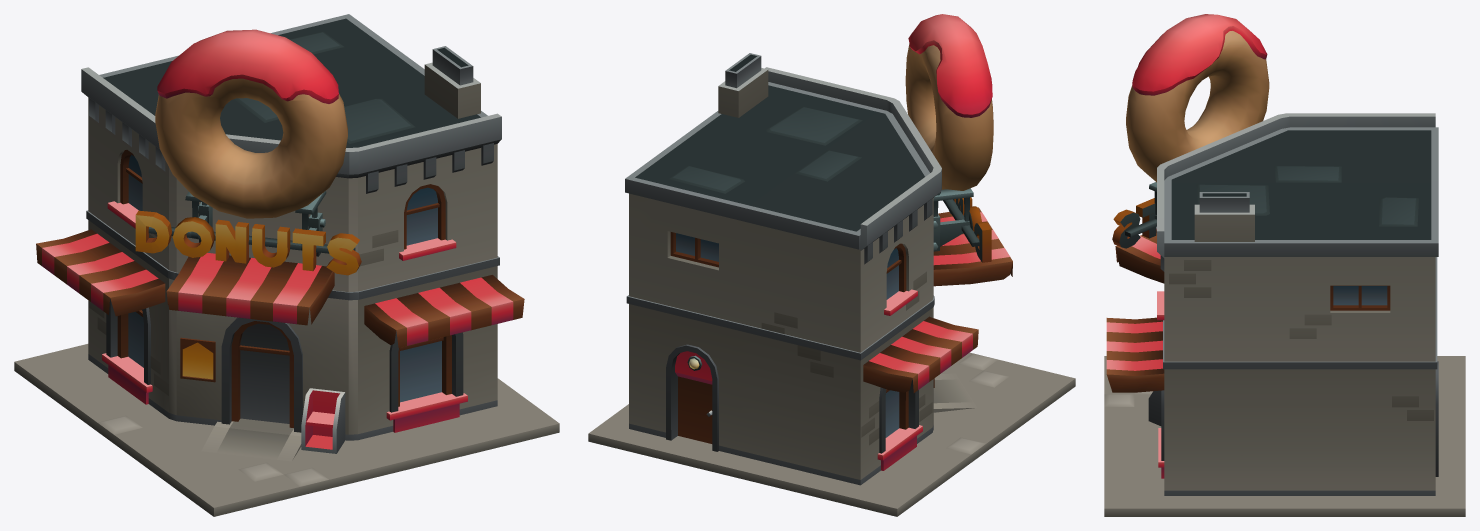
Rendered from Building_9C.fbx.
The picture shows the model from 3 angles, left to right: view 1: azimuth 30°, elevation 25°; view 2: azimuth 150°, elevation 25°; view 3: azimuth 270°, elevation 25°; orthographic projection. The views are drawn at different scales.
Visible parts, largest first — view 1: Building_9C, Donut_9C, Canopy_9C.M, Logo_9C, Canopy_9C.R, Canopy_9C.L; view 2: Building_9C, Donut_9C, Canopy_9C.L, Canopy_9C.M, Logo_9C; view 3: Building_9C, Donut_9C, Canopy_9C.R, Logo_9C, Canopy_9C.M.
Boxes of the visible parts, box(x1,y1,x2,y2) form: Building_9C: box(14, 14, 559, 516); Donut_9C: box(155, 29, 347, 218); Canopy_9C.M: box(166, 253, 334, 325); Logo_9C: box(135, 210, 361, 275); Canopy_9C.R: box(364, 275, 524, 347); Canopy_9C.L: box(36, 229, 165, 316); Building_9C: box(588, 53, 1075, 516); Donut_9C: box(905, 14, 993, 190); Canopy_9C.L: box(863, 316, 978, 392); Canopy_9C.M: box(933, 207, 1012, 286); Logo_9C: box(943, 197, 991, 262); Building_9C: box(1104, 113, 1465, 516); Donut_9C: box(1126, 14, 1269, 182); Canopy_9C.R: box(1106, 317, 1164, 392); Logo_9C: box(1112, 198, 1156, 248); Canopy_9C.M: box(1115, 229, 1164, 283).
Bounding box in the file's own units: 1200 × 1408 × 1200.
